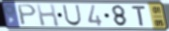4: (87, 4, 104, 28)
8: (111, 5, 129, 28)
H: (35, 3, 61, 28)
P: (16, 3, 38, 27)
T: (130, 5, 148, 28)
U: (62, 4, 83, 27)
